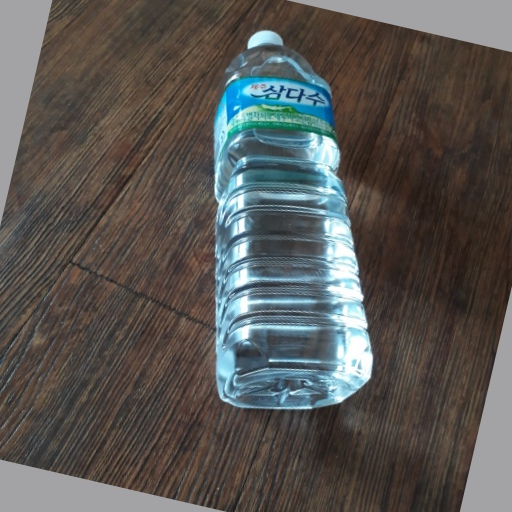Plastic_0: (209, 29, 379, 407)
